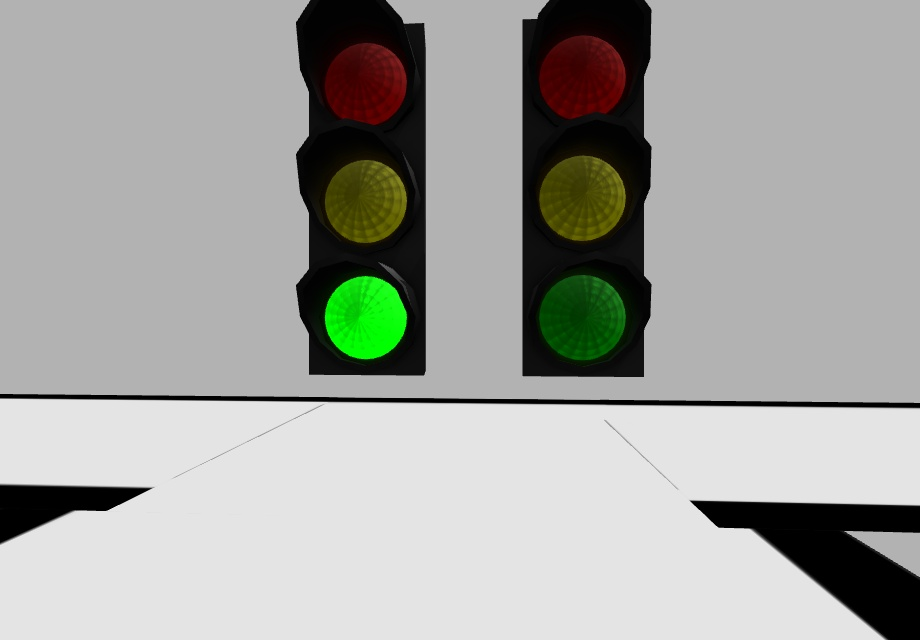green_off: (534, 265, 644, 369)
green_on: (310, 260, 418, 368)
